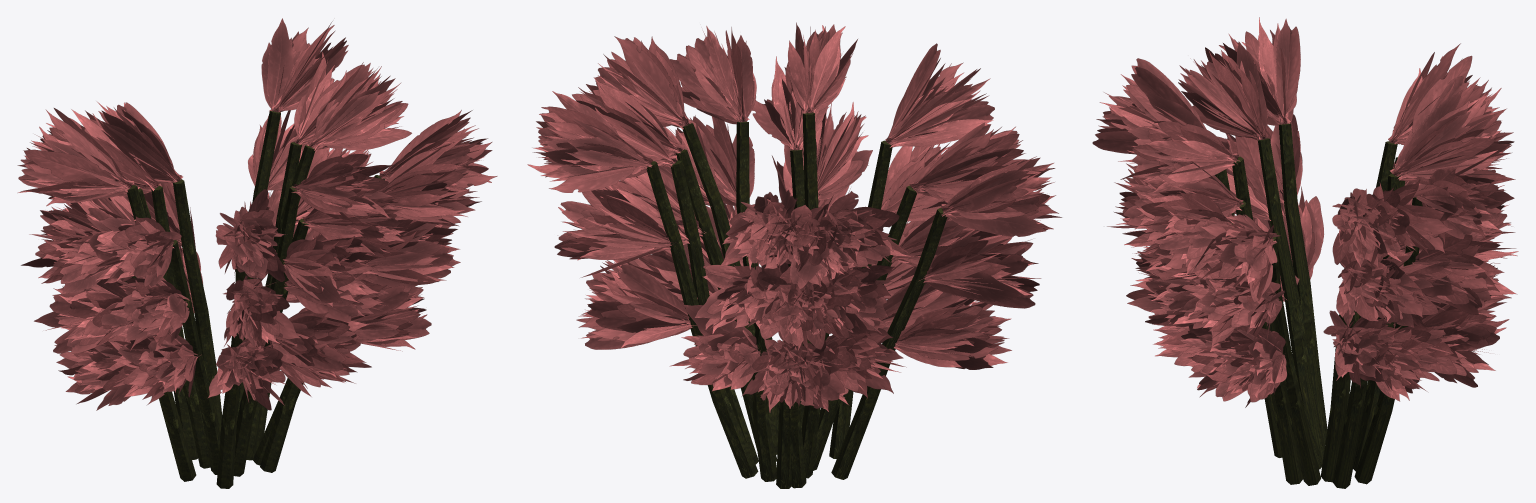
File: understory_ginger_v02.glb
3 renders of one model, left to right at view 1: azimuth 30°, elevation 25°; view 2: azimuth 150°, elevation 25°; view 3: azimuth 270°, elevation 25°, orthographic. The views are drawn at different scales.
Parts seen in each view (by area): view 1: understory_ginger_v02; view 2: understory_ginger_v02; view 3: understory_ginger_v02.
Part boxes in pixels (box(x1,y1,x2,y2)): understory_ginger_v02: box(17, 18, 497, 488); understory_ginger_v02: box(527, 22, 1061, 488); understory_ginger_v02: box(1092, 17, 1518, 488).
Bounding box in the file's own units: 1.59 × 1.24 × 1.22.
2 materials, 2 textured.
